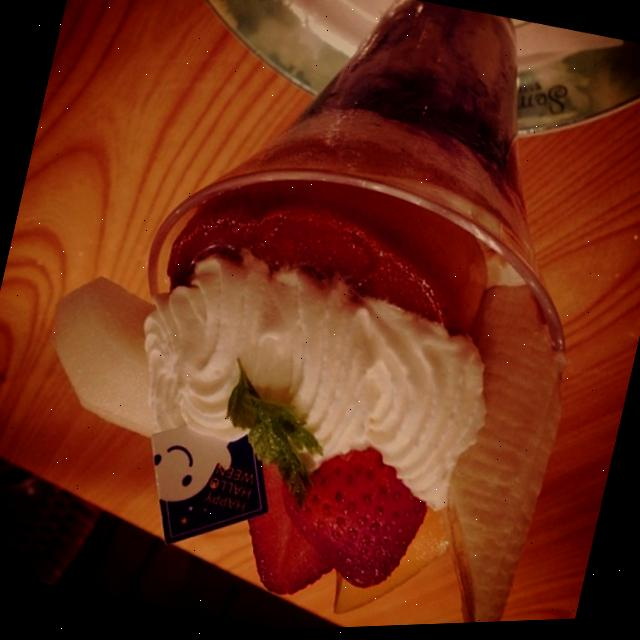蛋糕甜品: (35, 0, 640, 639)
